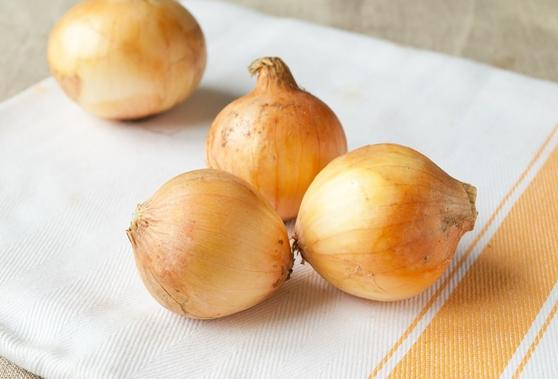onion: (293, 143, 478, 303), (133, 167, 295, 321), (205, 64, 353, 219), (41, 1, 208, 118)
